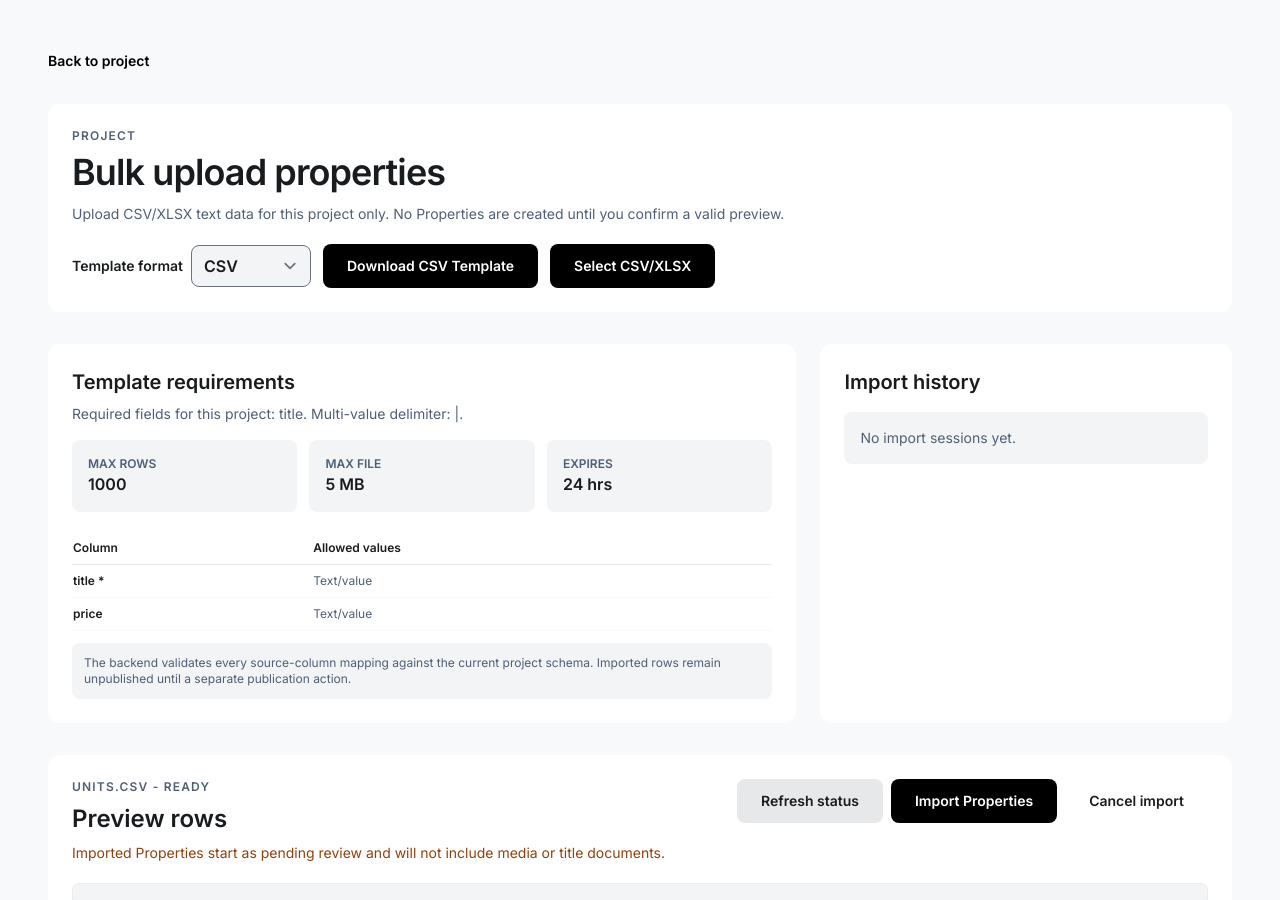
Test: project property import flow › initiates step-up for the exact confirm path and reports the accepted import as queued
Step 1. Click the button "Import Properties" → (974, 801), box [891,779,1057,823]
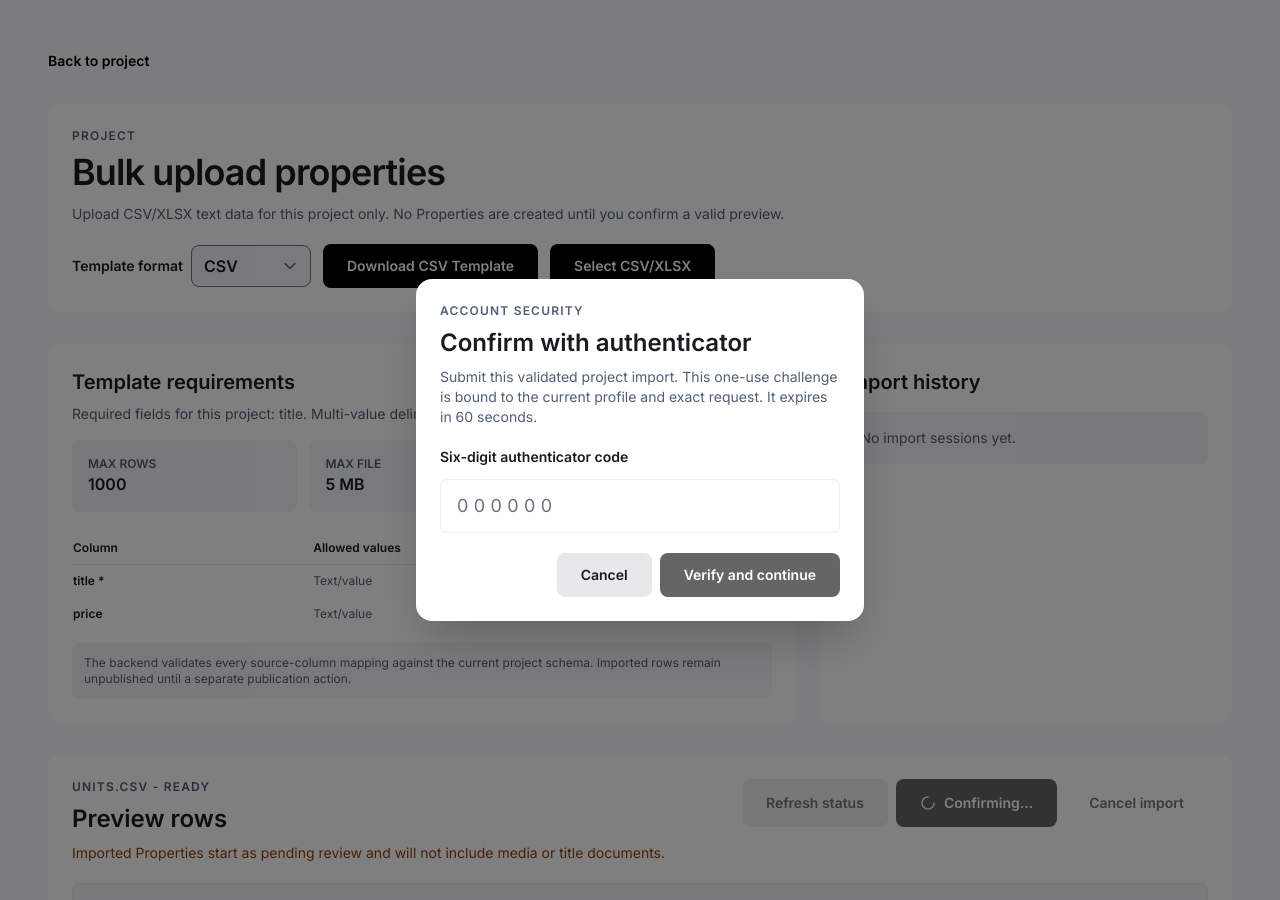
Step 2. Type "123456" into the field labelled "Six-digit authenticator code" → (640, 506), box [440,479,840,533]
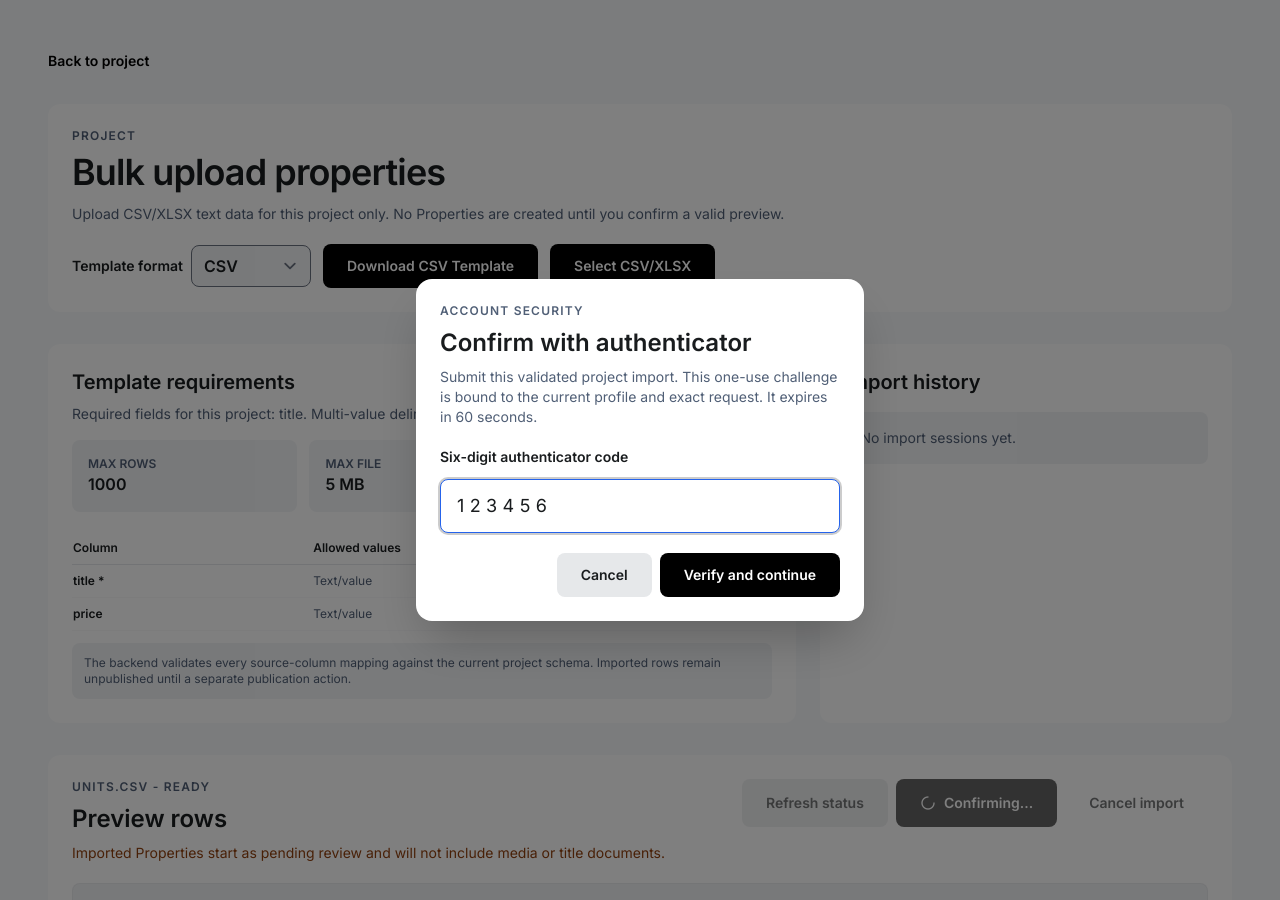
Step 3. Click the button "Verify and continue" → (750, 575), box [660,553,840,597]
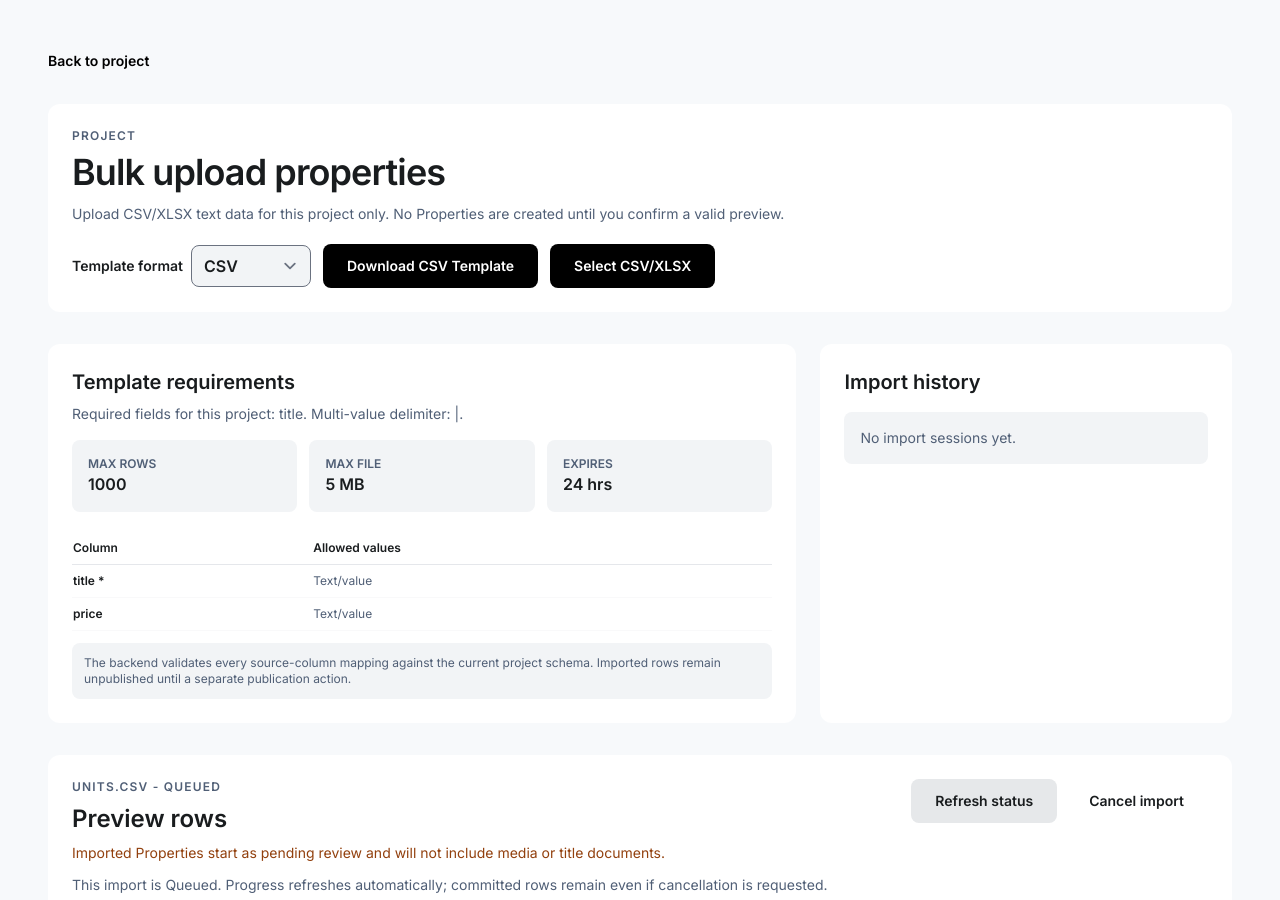
Expected: the text "This import is Queued" is shown, [72,876,828,893]
